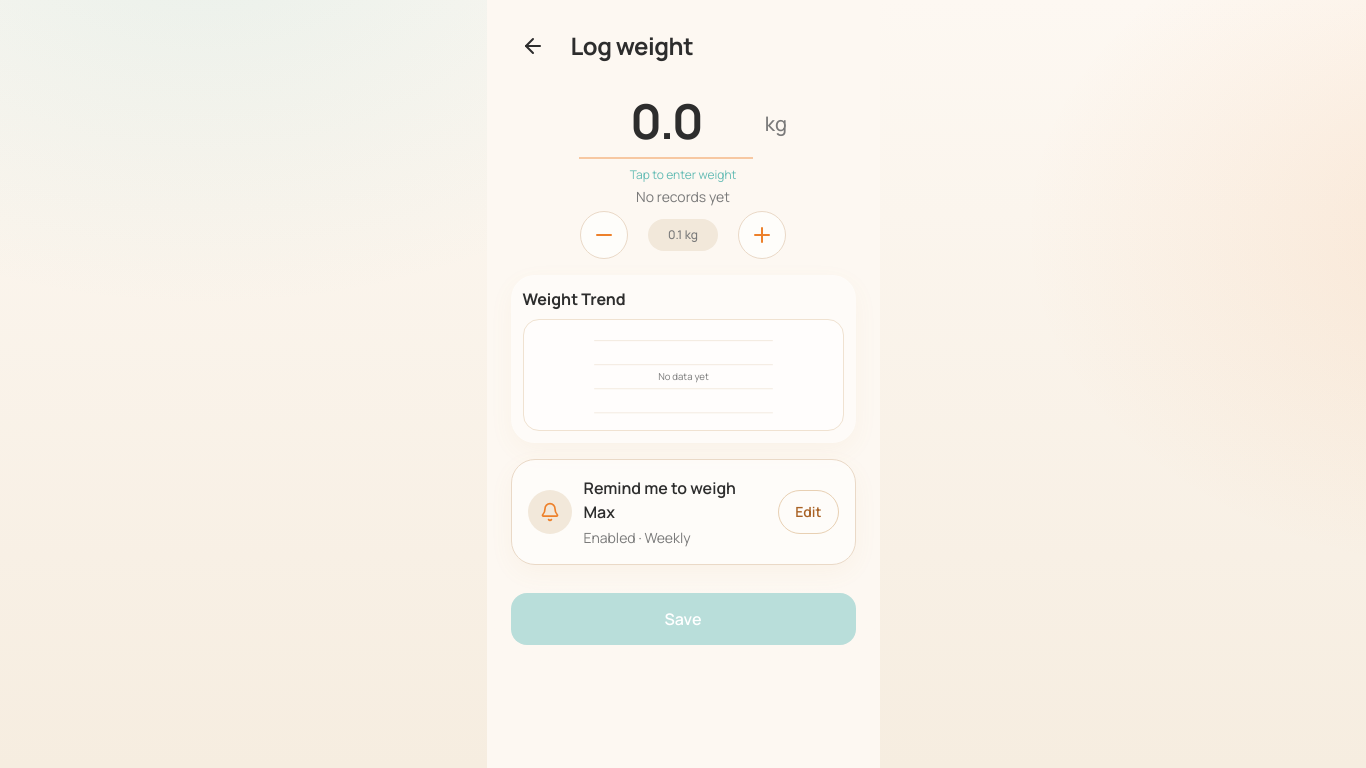
it: LogWeight › collapses a saved weight reminder and exposes an edit action
Expected: the text "Enabled · Weekly" is shown, [584, 528, 691, 547]
Click the button with aria-label "Edit weight reminder for Max" at (808, 512), box [778, 490, 838, 534]
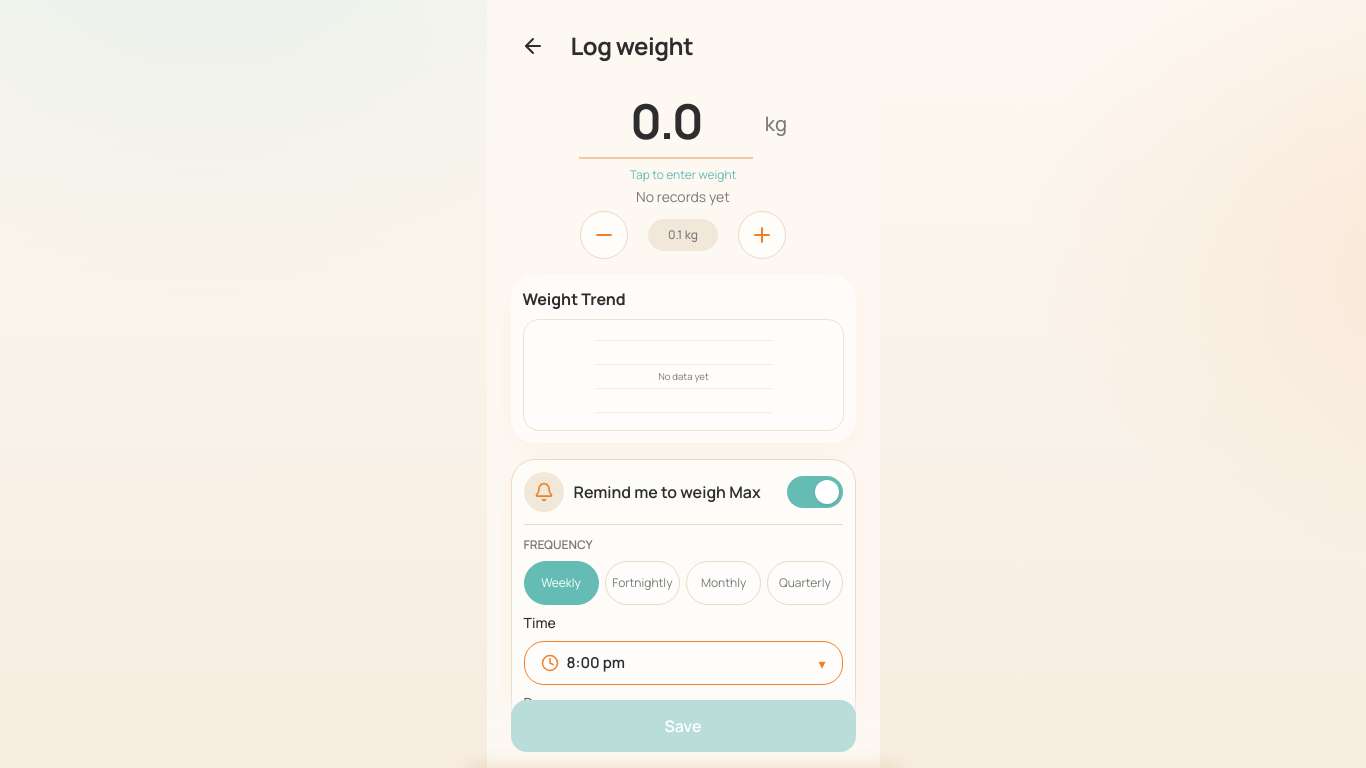
Now the switch named "Weight reminder" is shown, box [786, 476, 842, 508]
